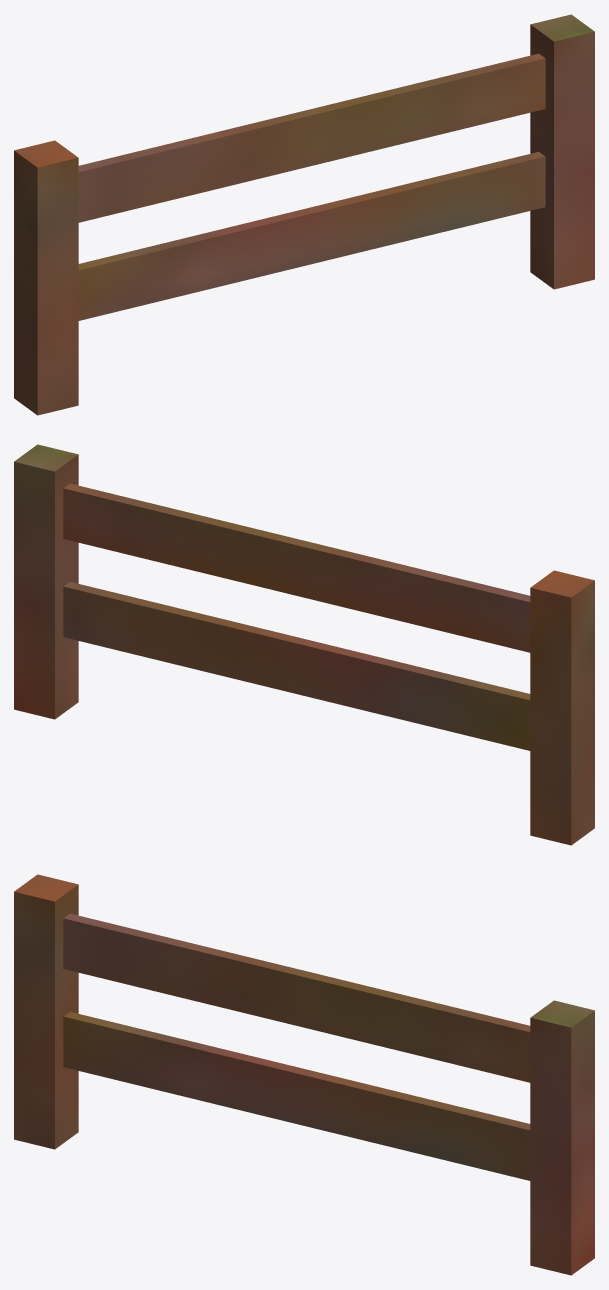
The model's file is mega-pack-cube-011.glb.
3 renders of one model, top to bottom at view 1: azimuth 30°, elevation 25°; view 2: azimuth 150°, elevation 25°; view 3: azimuth 330°, elevation 25°, orthographic.
Visible parts, largest first — view 1: Cube.011; view 2: Cube.011; view 3: Cube.011.
Boxes of the visible parts, left/top/right/bottom form: Cube.011: left=14, top=14, right=594, bottom=415; Cube.011: left=14, top=444, right=594, bottom=845; Cube.011: left=14, top=874, right=594, bottom=1275.
Size of the model in its own units: 1.74 by 0.7391 by 0.1278.
Materials: 1 (1 with a texture image).
